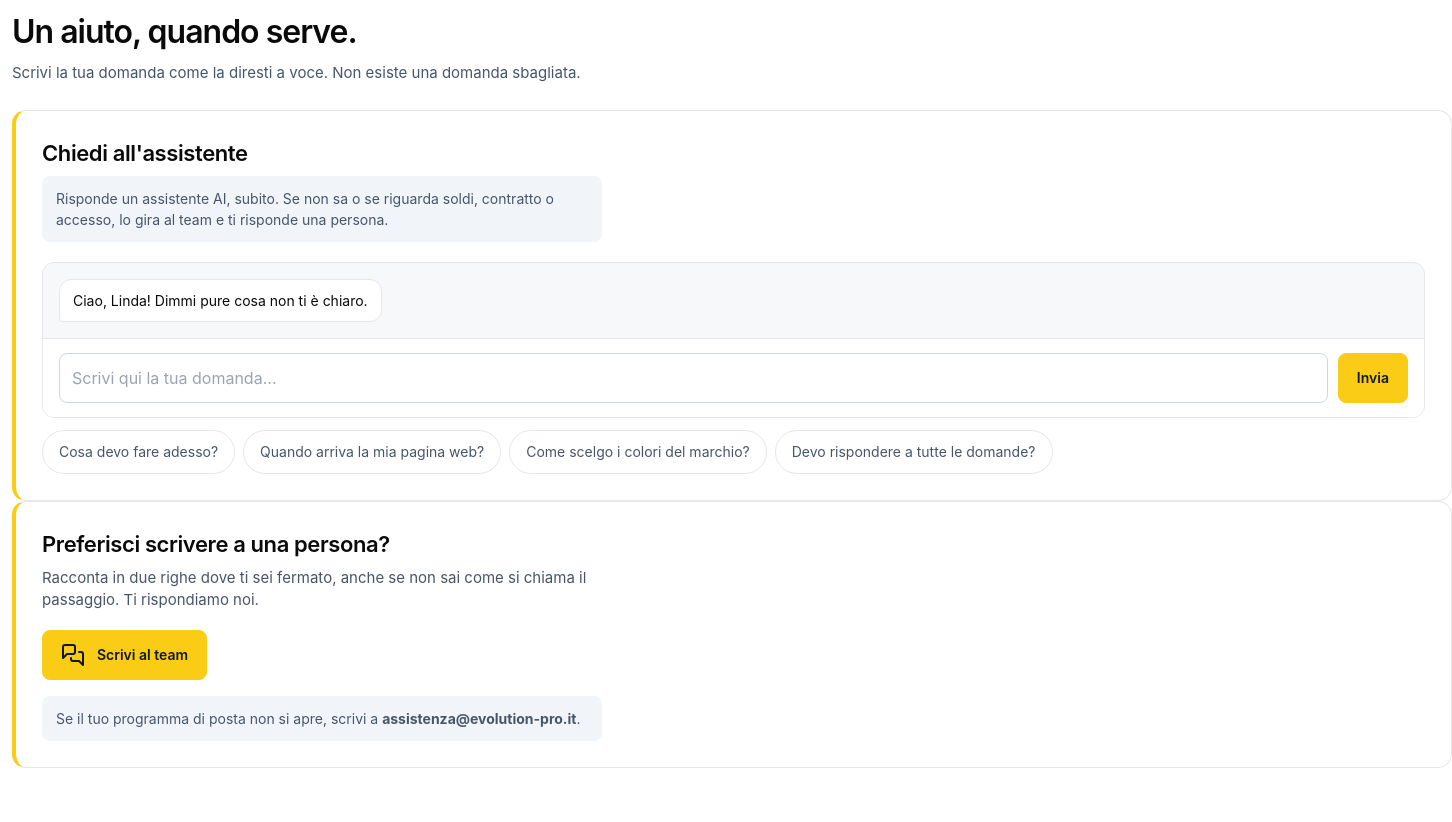
Test: se non risponde non inventa: tiene il testo, offre Riprova e la mail
Type "Quando arriva il sito?" into the field labelled "la tua domanda" at [693, 378], box top-left (59, 352), bottom-right (1328, 402)
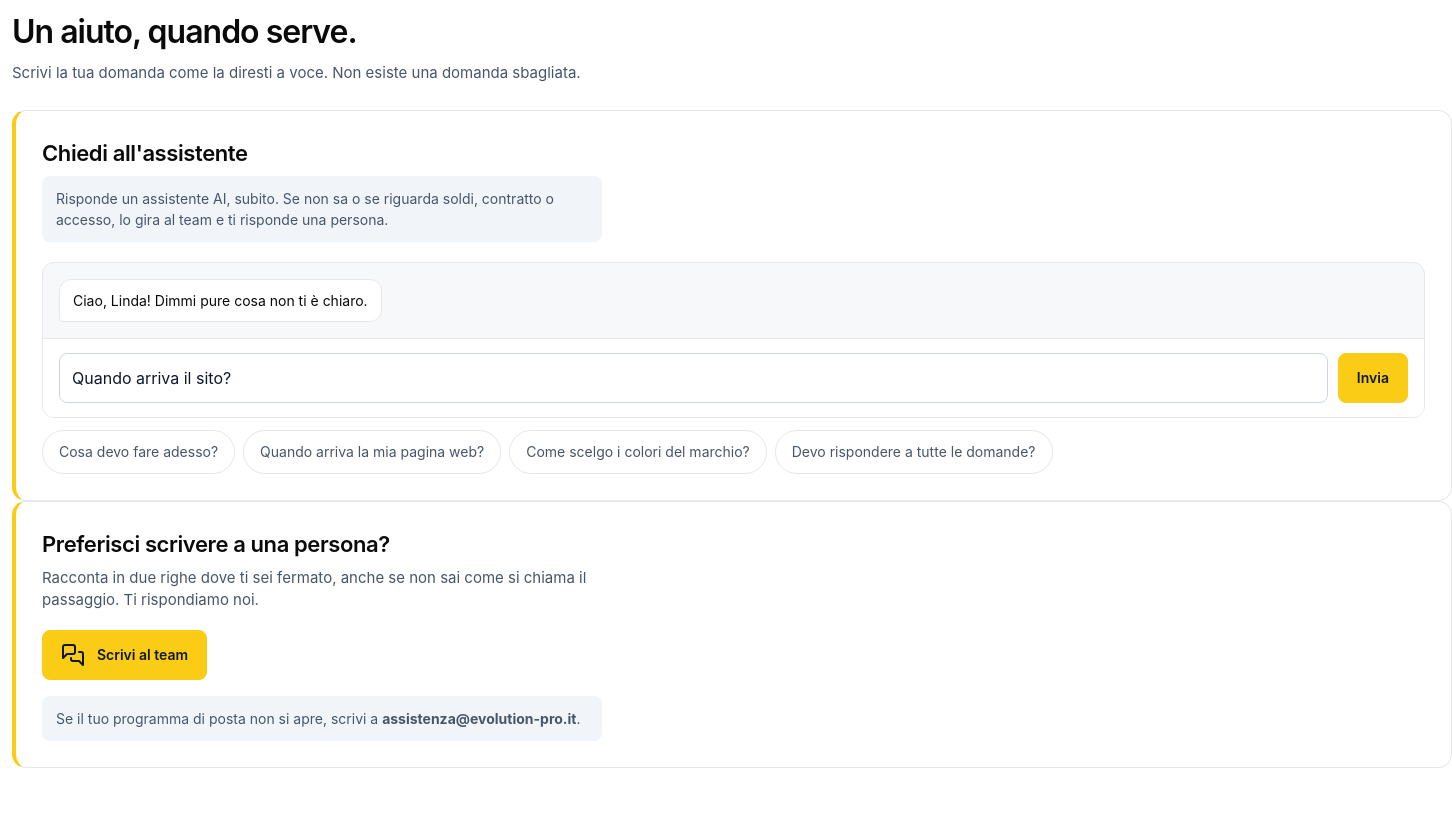
Click the button "Invia" at [1373, 378], box top-left (1338, 352), bottom-right (1408, 402)
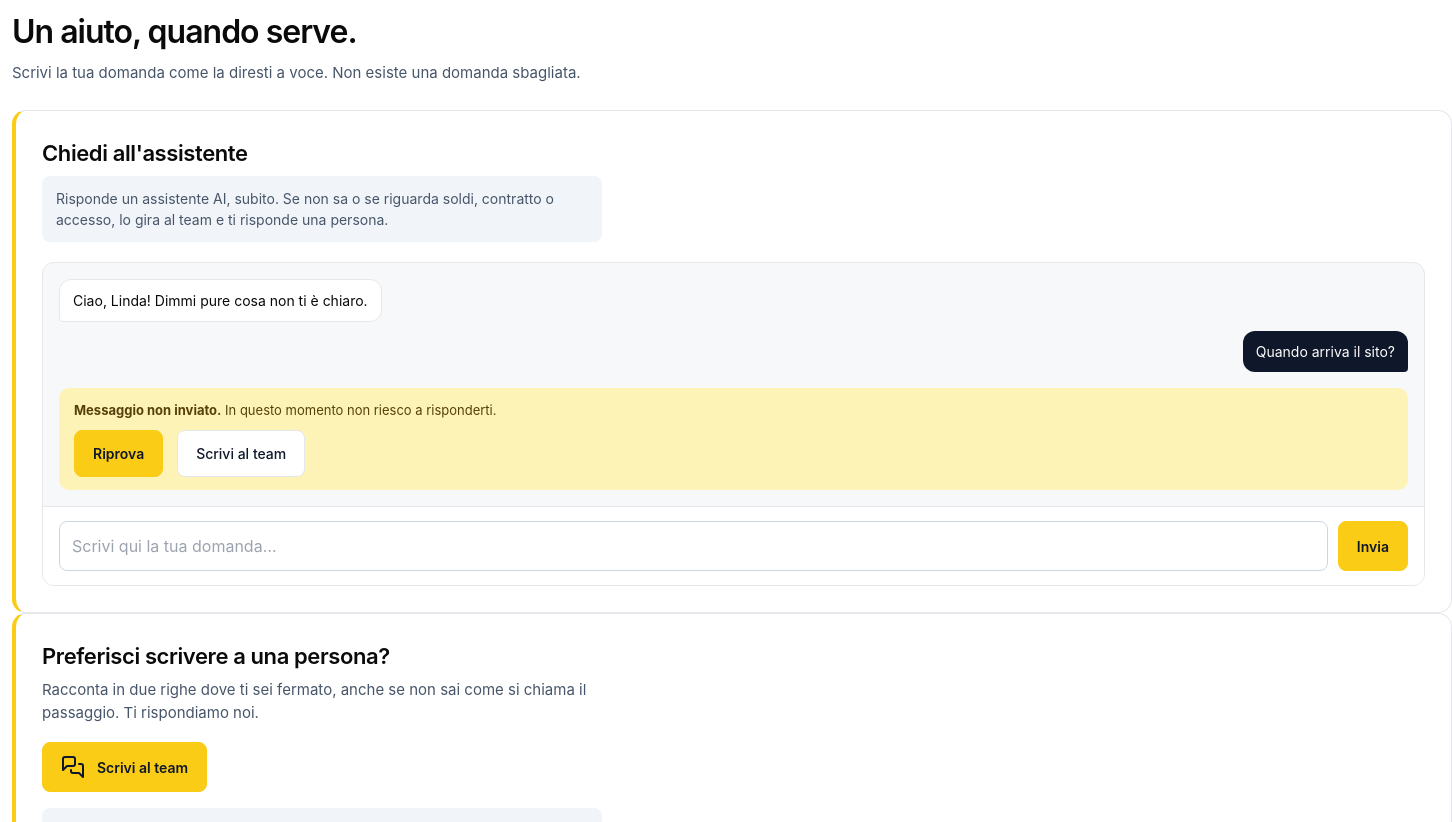
Now the message shows "Messaggio non inviato", box top-left (74, 402), bottom-right (221, 418)
Now the message shows "In questo momento non riesco a risponderti.", box top-left (225, 402), bottom-right (496, 418)
Click the button "Riprova" at [119, 454], box top-left (74, 430), bottom-right (163, 477)
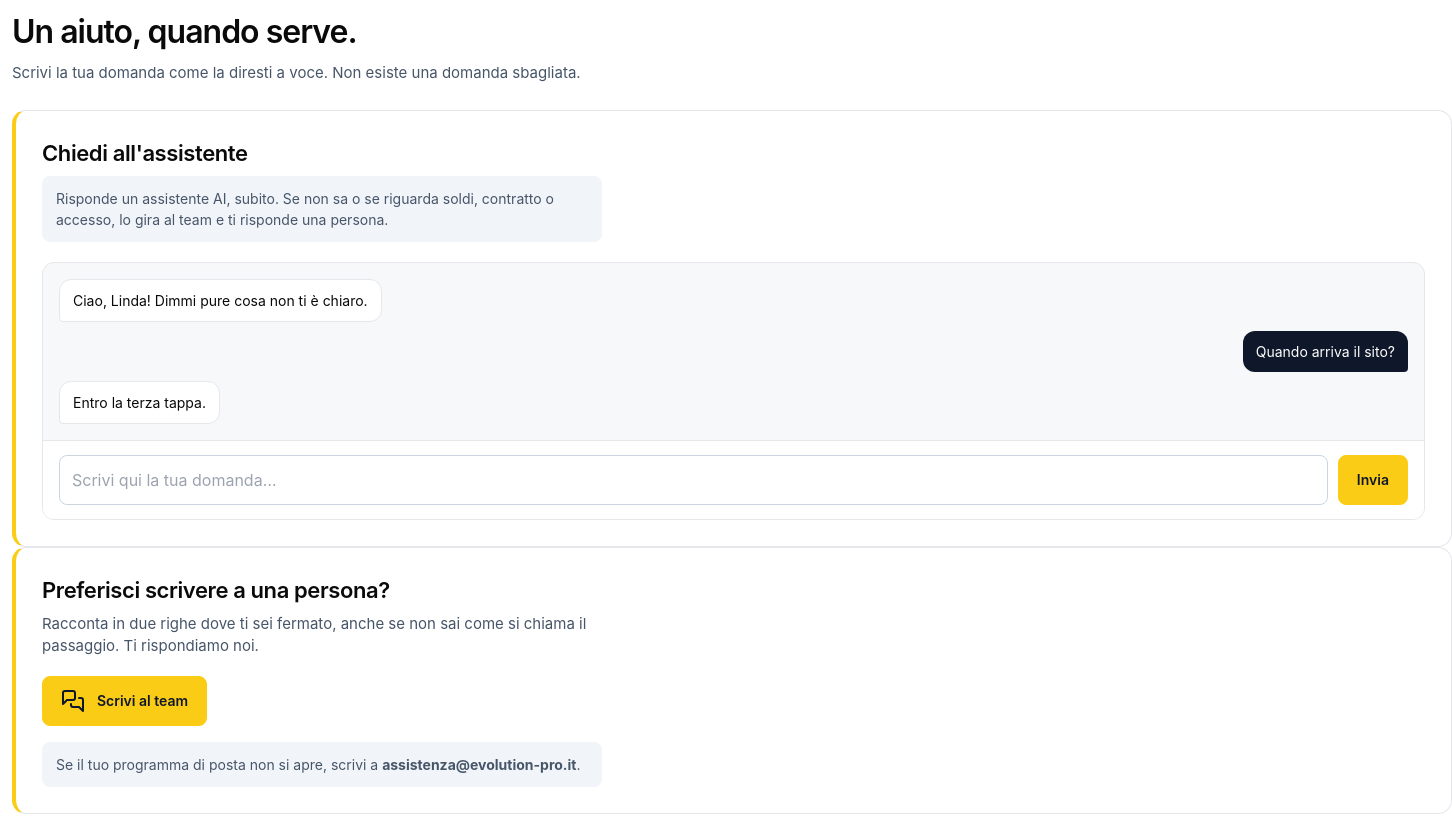
Now the text "Entro la terza tappa." is shown, box top-left (59, 380), bottom-right (220, 424)
Now the text "Quando arriva il sito?" is shown once, box top-left (1243, 330), bottom-right (1408, 372)
